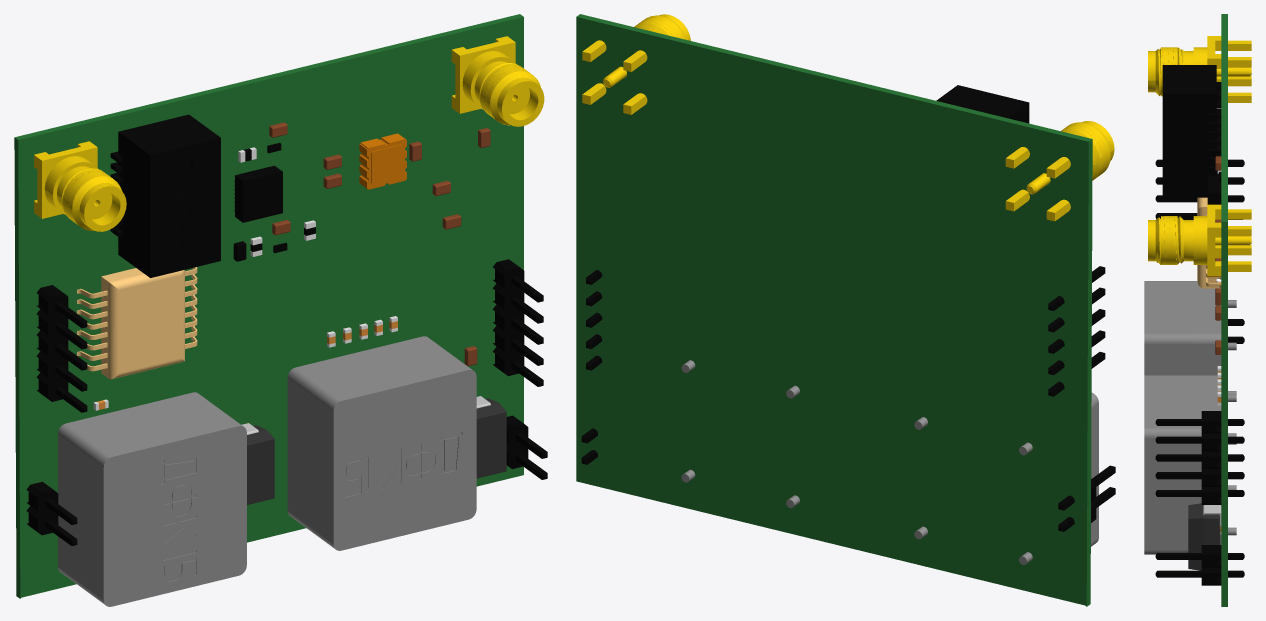
The model's file is PCB3.glb.
3 renders of one model, left to right at view 1: azimuth 30°, elevation 25°; view 2: azimuth 150°, elevation 25°; view 3: azimuth 270°, elevation 25°, orthographic. The views are drawn at different scales.
Parts seen in each view (by area): view 1: Open_CASCADE_STEP_translator_75_211, Ŕ10, Ŕ10_1, ӌ100-1-1, User_Library-402,16-32, User_Library-SMA_Stehend_Amp_132134RP-1_1, User_Library-SMA_Stehend_Amp_132134RP-1_1_1, User_Library-LFCSP-32_CP-32-26, User_Library-5140_8-AH3, Open_CASCADE_STEP_translator_68_811_1, Open_CASCADE_STEP_translator_68_811, PLS-1_5 (+13 smaller); view 2: Open_CASCADE_STEP_translator_75_211, User_Library-SMA_Stehend_Amp_132134RP-1_1_1, User_Library-SMA_Stehend_Amp_132134RP-1_1, ӌ100-1-1, Ŕ10_1; view 3: Ŕ10, ӌ100-1-1, Ŕ10_1, User_Library-SMA_Stehend_Amp_132134RP-1_1, Open_CASCADE_STEP_translator_75_211, User_Library-SMA_Stehend_Amp_132134RP-1_1_1, Open_CASCADE_STEP_translator_68_811_1, PLS-1, PLS-1_7, PLS-1_1, PLS-1_8, PLS-1_2 (+11 smaller).
Part boxes in pixels (box(x1,y1,x2,y2)): Open_CASCADE_STEP_translator_75_211: box(14, 14, 523, 598); Ŕ10: box(287, 336, 476, 550); Ŕ10_1: box(58, 392, 246, 606); ӌ100-1-1: box(110, 114, 220, 277); User_Library-402,16-32: box(77, 267, 197, 379); User_Library-SMA_Stehend_Amp_132134RP-1_1: box(451, 36, 544, 126); User_Library-SMA_Stehend_Amp_132134RP-1_1_1: box(34, 141, 126, 231); User_Library-LFCSP-32_CP-32-26: box(234, 165, 282, 222); User_Library-5140_8-AH3: box(359, 133, 406, 189); Open_CASCADE_STEP_translator_68_811_1: box(476, 398, 506, 478); Open_CASCADE_STEP_translator_68_811: box(247, 425, 274, 504); PLS-1_5: box(26, 481, 77, 524); Open_CASCADE_STEP_translator_75_211: box(576, 14, 1092, 606); User_Library-SMA_Stehend_Amp_132134RP-1_1_1: box(1005, 121, 1114, 221); User_Library-SMA_Stehend_Amp_132134RP-1_1: box(582, 14, 690, 114); ӌ100-1-1: box(936, 85, 1029, 123); Ŕ10_1: box(914, 392, 1098, 564); Ŕ10: box(1144, 375, 1236, 554); ӌ100-1-1: box(1162, 65, 1221, 197); Ŕ10_1: box(1144, 281, 1236, 436); User_Library-SMA_Stehend_Amp_132134RP-1_1: box(1148, 204, 1251, 276); Open_CASCADE_STEP_translator_75_211: box(1221, 14, 1227, 606); User_Library-SMA_Stehend_Amp_132134RP-1_1_1: box(1148, 36, 1251, 102); Open_CASCADE_STEP_translator_68_811_1: box(1188, 503, 1220, 570); PLS-1: box(1155, 411, 1244, 433); PLS-1_7: box(1155, 545, 1244, 567); PLS-1_1: box(1155, 433, 1244, 451); PLS-1_8: box(1155, 567, 1244, 585); PLS-1_2: box(1155, 451, 1244, 469).
Bounding box in the file's own units: 63.63 × 55.24 × 13.94.
